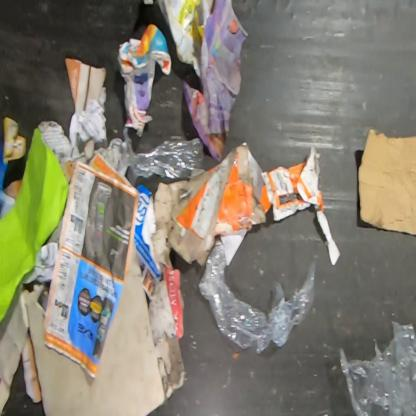cardboard: (28, 237, 167, 416), (150, 141, 273, 268), (357, 128, 416, 236)
soft_plastic: (197, 245, 320, 355), (260, 146, 341, 266), (338, 320, 415, 415), (122, 127, 204, 188), (64, 57, 107, 115)
